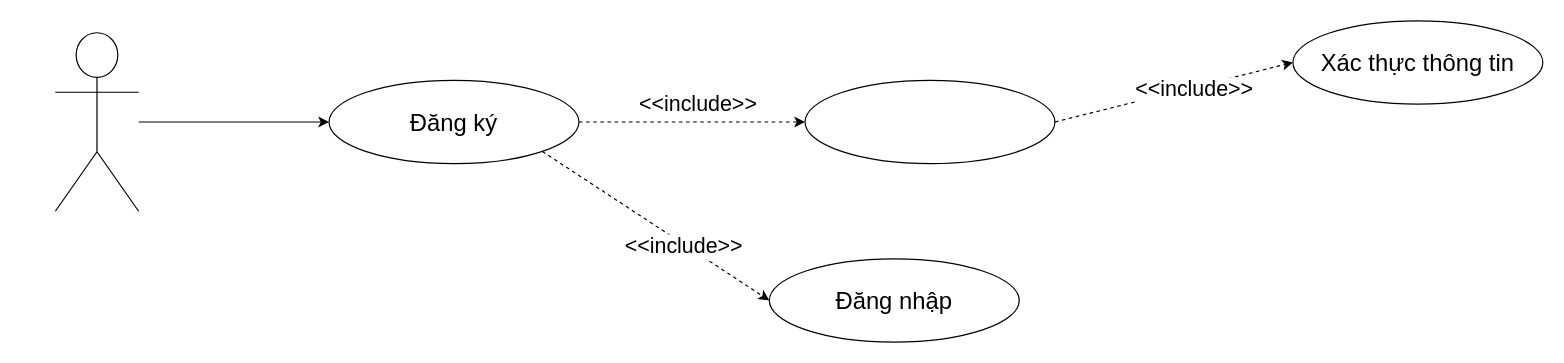
Some shapes in this 1564 by 363 pixel diagram are drawn without their labels. Each missing label, with the centre of its shape:
"Người dùng" goes at pixel 96 121.
"Nhập thông tin" goes at pixel 929 121.
